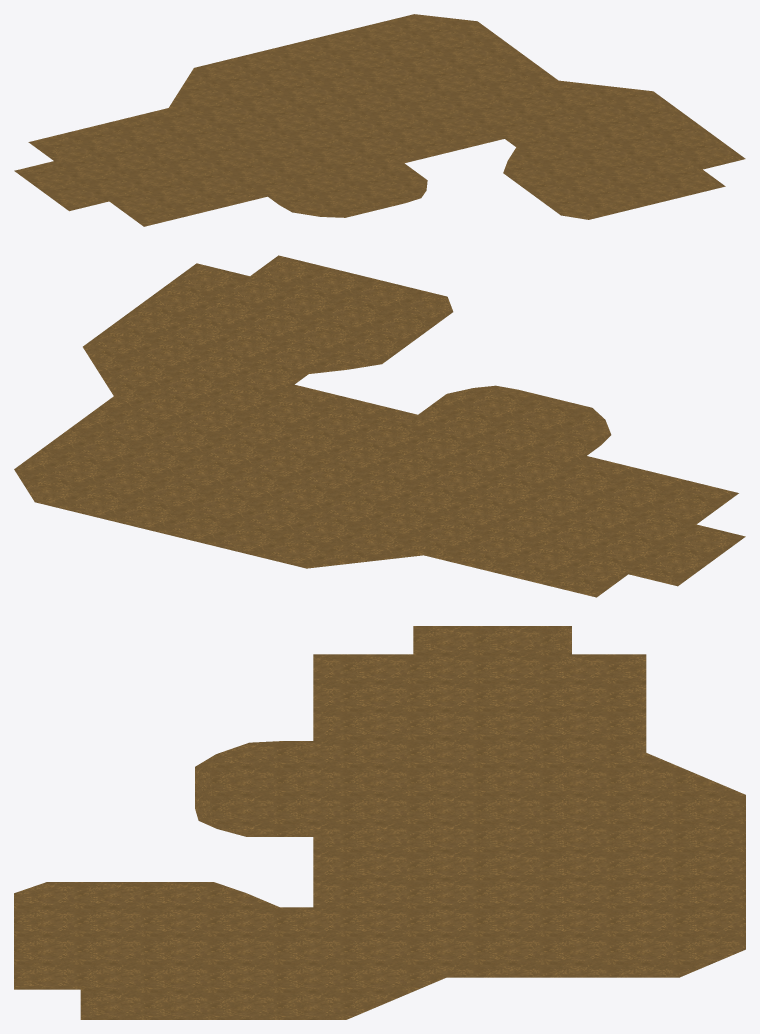
The picture shows the model from 3 angles, top to bottom: view 1: azimuth 30°, elevation 25°; view 2: azimuth 150°, elevation 25°; view 3: azimuth 270°, elevation 25°; orthographic projection. The views are drawn at different scales.
Visible parts, largest first — view 1: Plane005; view 2: Plane005; view 3: Plane005.
Part boxes in pixels (x1,y1,x2,y2): Plane005: (14, 14, 745, 226); Plane005: (14, 255, 745, 597); Plane005: (14, 626, 745, 1019).
Size of the model in its own units: 346 by 1.67e-14 by 272.
Materials: 1 (1 with a texture image).
